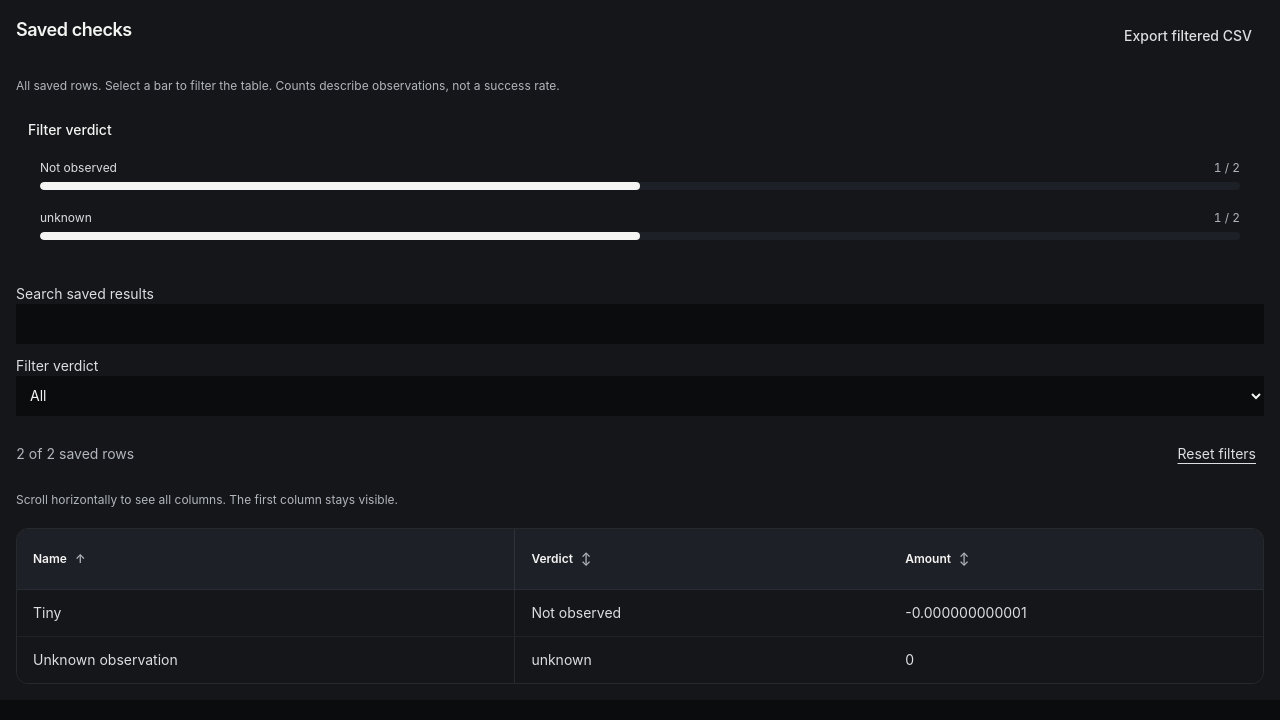
Scenario: keeps tiny signed numeric evidence visible and distinguishes missing from a literal unknown
Expected: the text "-0.000000000001" is shown, [889,590,1263,637]
Click the button with aria-label "Not observed · 1 / 2" at (78, 167), box [32,152,1248,198]
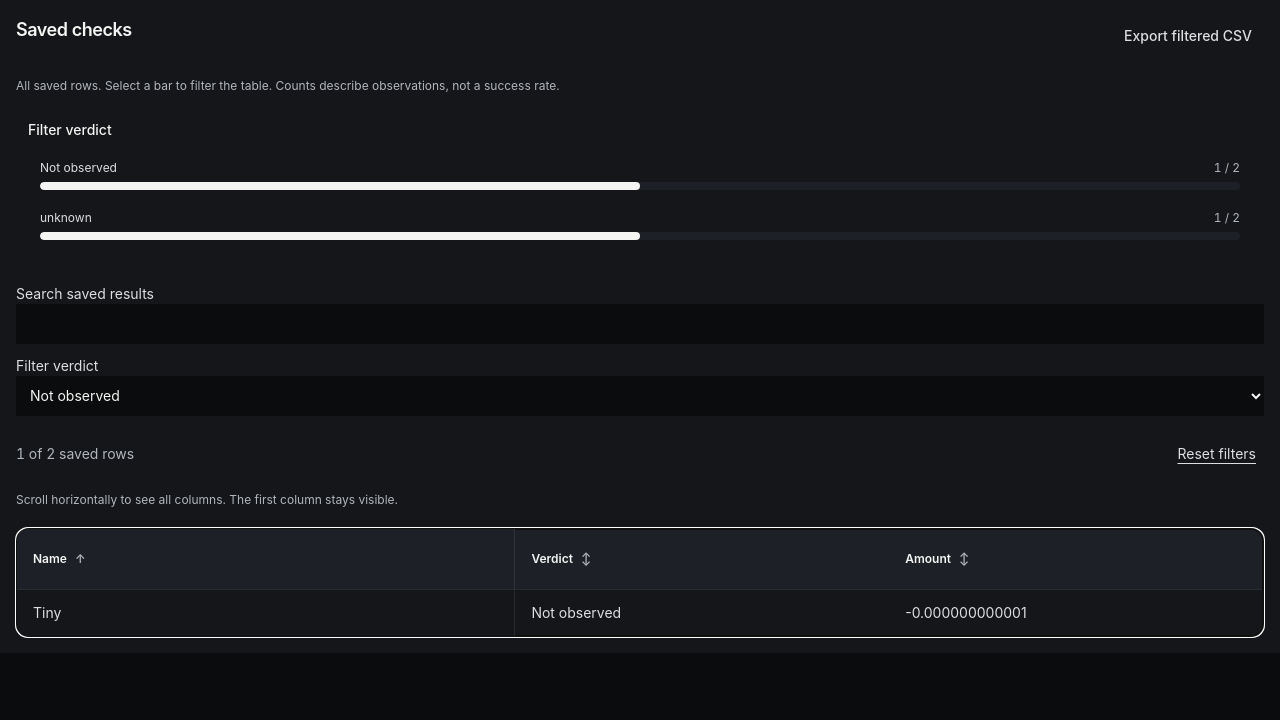
Now the text "Unknown observation" is gone
